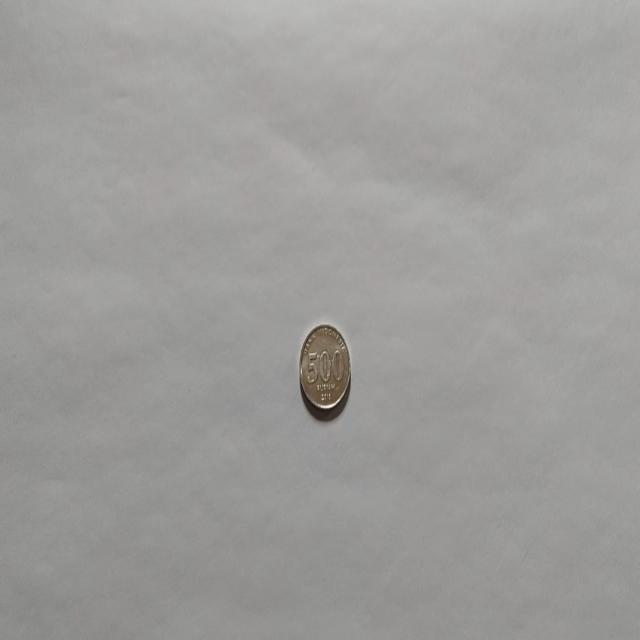lima ratus rupiah: (298, 322, 352, 418)
